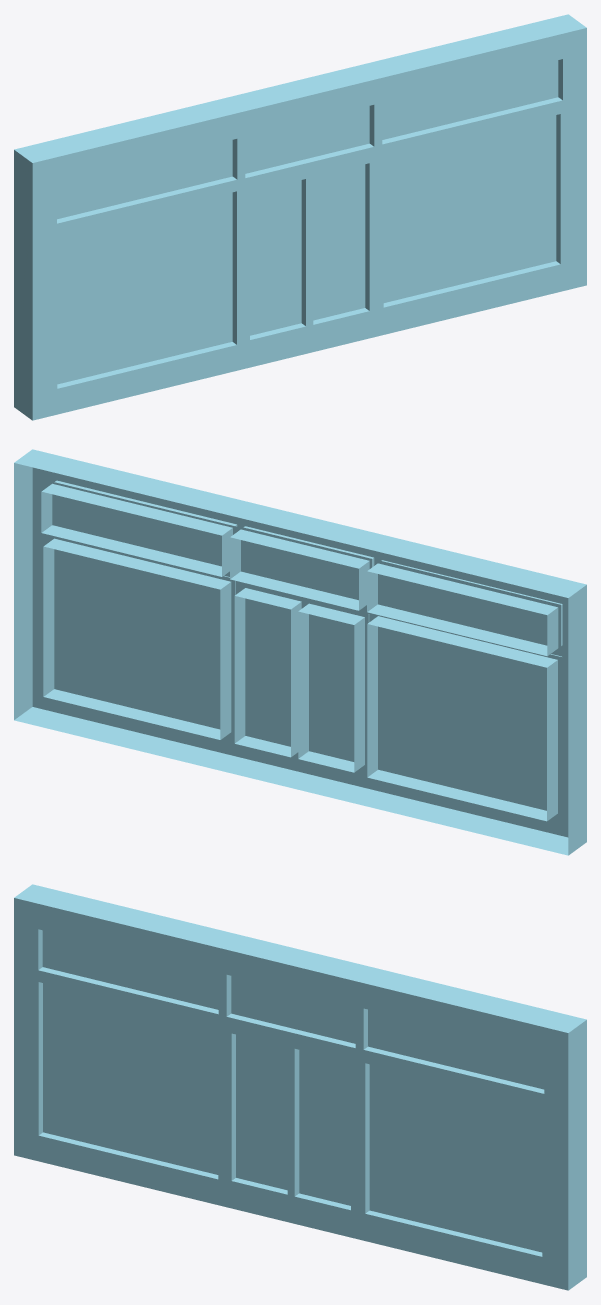
The model's file is ventana.fbx.
3 renders of one model, top to bottom at view 1: azimuth 30°, elevation 25°; view 2: azimuth 150°, elevation 25°; view 3: azimuth 330°, elevation 25°, orthographic.
Visible parts, largest first — view 1: WorldMarket_glass_geo; view 2: WorldMarket_glass_geo; view 3: WorldMarket_glass_geo.
Boxes of the visible parts, x1,y1,x2,y2 form: WorldMarket_glass_geo: (14,14,586,420); WorldMarket_glass_geo: (14,449,586,855); WorldMarket_glass_geo: (14,884,586,1290).
Bounding box in the file's own units: 1107 × 491 × 64.1.
